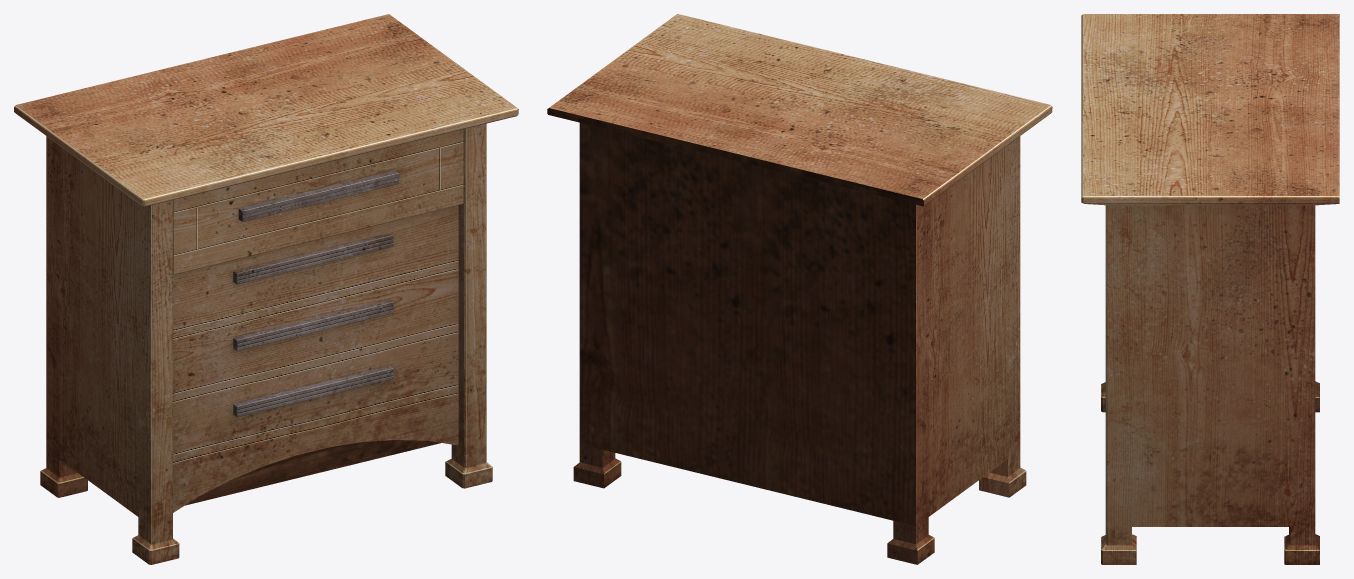
The model's file is cabinet04.FBX.
The picture shows the model from 3 angles, left to right: view 1: azimuth 30°, elevation 25°; view 2: azimuth 150°, elevation 25°; view 3: azimuth 270°, elevation 25°; orthographic projection.
Parts seen in each view (by area): view 1: SM_Cabinet04; view 2: SM_Cabinet04; view 3: SM_Cabinet04.
Part boxes in pixels (x1,y1,x2,y2): SM_Cabinet04: (14, 14, 518, 564); SM_Cabinet04: (547, 14, 1052, 564); SM_Cabinet04: (1081, 14, 1339, 564).
Bounding box in the file's own units: 87.16 × 83.3 × 51.9.
Materials: 1 (1 with a texture image).
